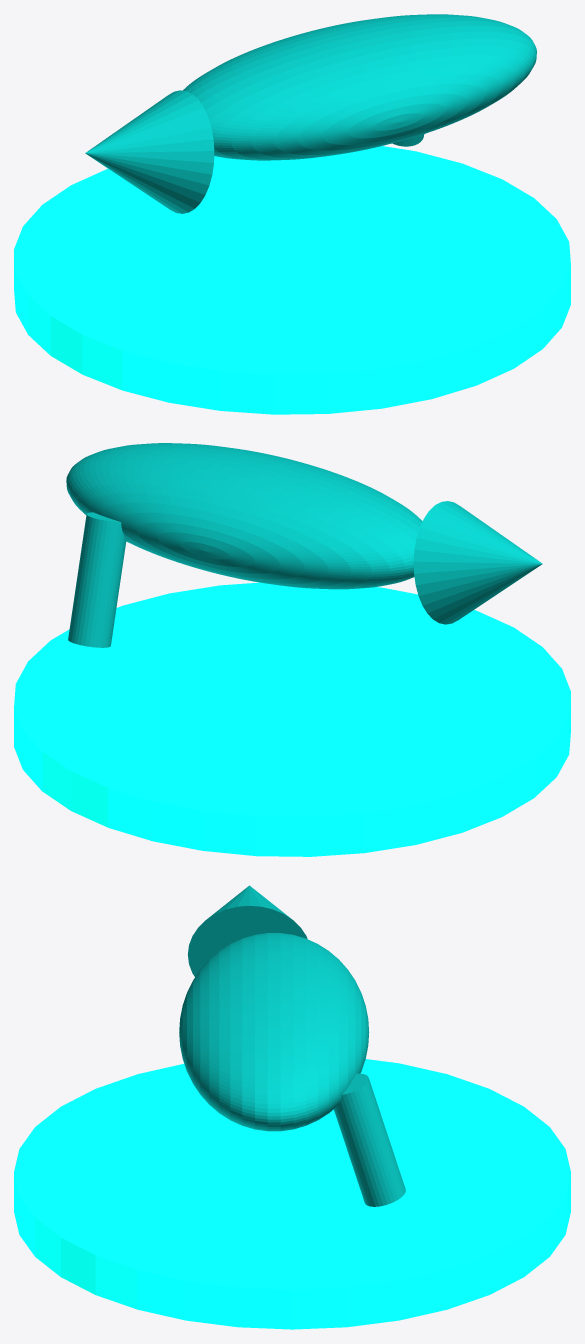
File: fashion_high_heel.glb
3 views of the same model, one above another, from view 1: azimuth 30°, elevation 25°; view 2: azimuth 150°, elevation 25°; view 3: azimuth 270°, elevation 25° (orthographic).
Visible parts, largest first — view 1: 06_11_Popular_Fashion_High_Heel_ROOT_base, 06_11_Popular_Fashion_High_Heel_part_01, 06_11_Popular_Fashion_High_Heel_part_03; view 2: 06_11_Popular_Fashion_High_Heel_ROOT_base, 06_11_Popular_Fashion_High_Heel_part_01, 06_11_Popular_Fashion_High_Heel_part_03, 06_11_Popular_Fashion_High_Heel_part_02; view 3: 06_11_Popular_Fashion_High_Heel_ROOT_base, 06_11_Popular_Fashion_High_Heel_part_01, 06_11_Popular_Fashion_High_Heel_part_02, 06_11_Popular_Fashion_High_Heel_part_03.
Part boxes in pixels (bbox=[...]): 06_11_Popular_Fashion_High_Heel_ROOT_base: bbox=[14, 146, 570, 414]; 06_11_Popular_Fashion_High_Heel_part_01: bbox=[183, 14, 536, 160]; 06_11_Popular_Fashion_High_Heel_part_03: bbox=[85, 90, 214, 213]; 06_11_Popular_Fashion_High_Heel_ROOT_base: bbox=[14, 582, 570, 856]; 06_11_Popular_Fashion_High_Heel_part_01: bbox=[66, 443, 422, 589]; 06_11_Popular_Fashion_High_Heel_part_03: bbox=[413, 501, 542, 624]; 06_11_Popular_Fashion_High_Heel_part_02: bbox=[68, 512, 126, 647]; 06_11_Popular_Fashion_High_Heel_ROOT_base: bbox=[14, 1059, 570, 1329]; 06_11_Popular_Fashion_High_Heel_part_01: bbox=[179, 933, 369, 1131]; 06_11_Popular_Fashion_High_Heel_part_02: bbox=[334, 1073, 405, 1206]; 06_11_Popular_Fashion_High_Heel_part_03: bbox=[187, 885, 307, 976].
Size of the model in its own units: 0.76 by 0.3774 by 0.76.
